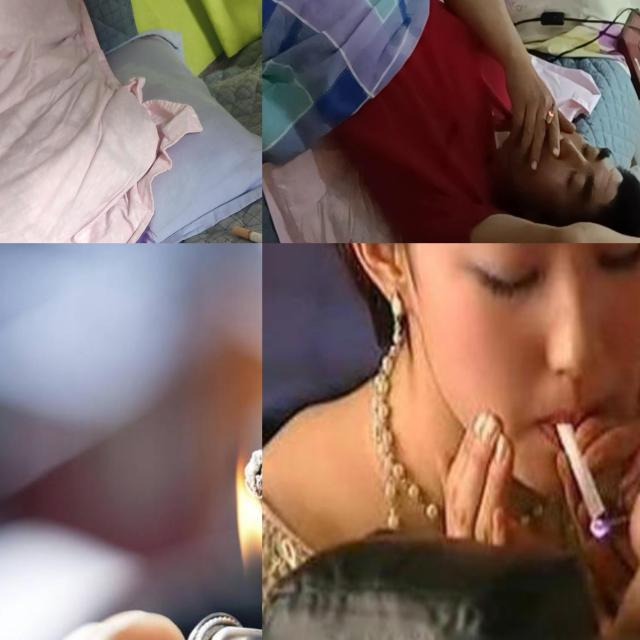smoking: (552, 418, 610, 528), (232, 225, 262, 243), (544, 103, 556, 131)
